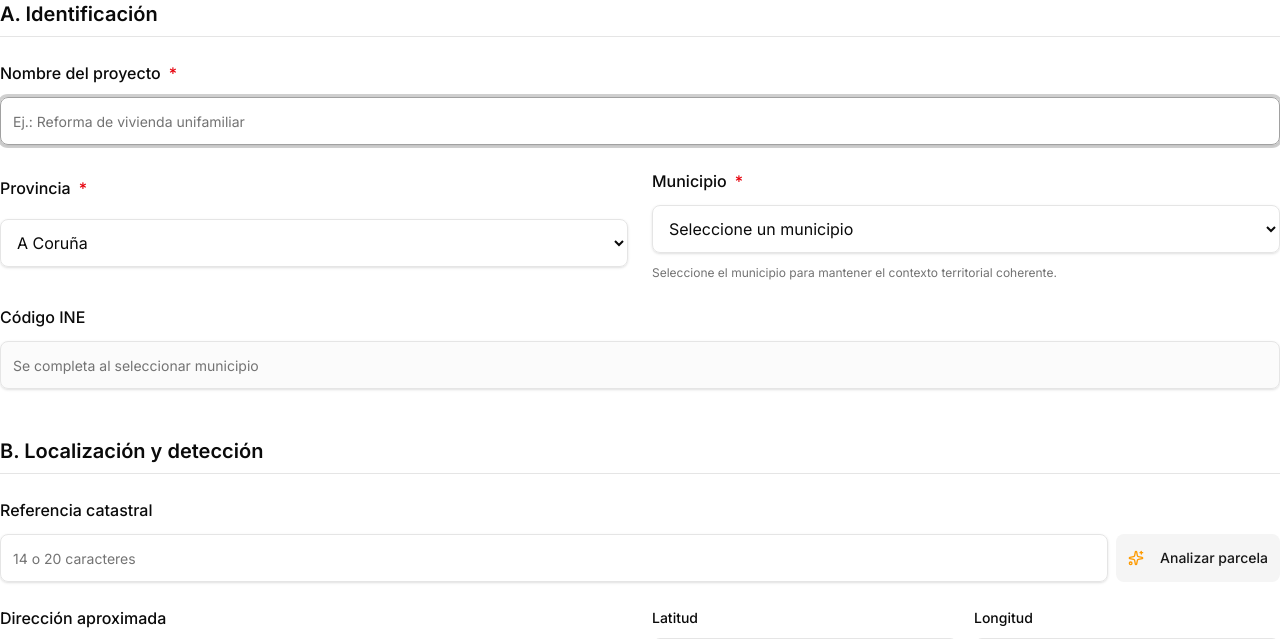
Test case: ExpedienteForm › clears Betanzos inputs before analysing a newly selected Culleredo parcel
Type "15009A01300255" into the field labelled "Referencia catastral".
click(554, 558); type("15009A01300255")  # box [0,534,1108,582]
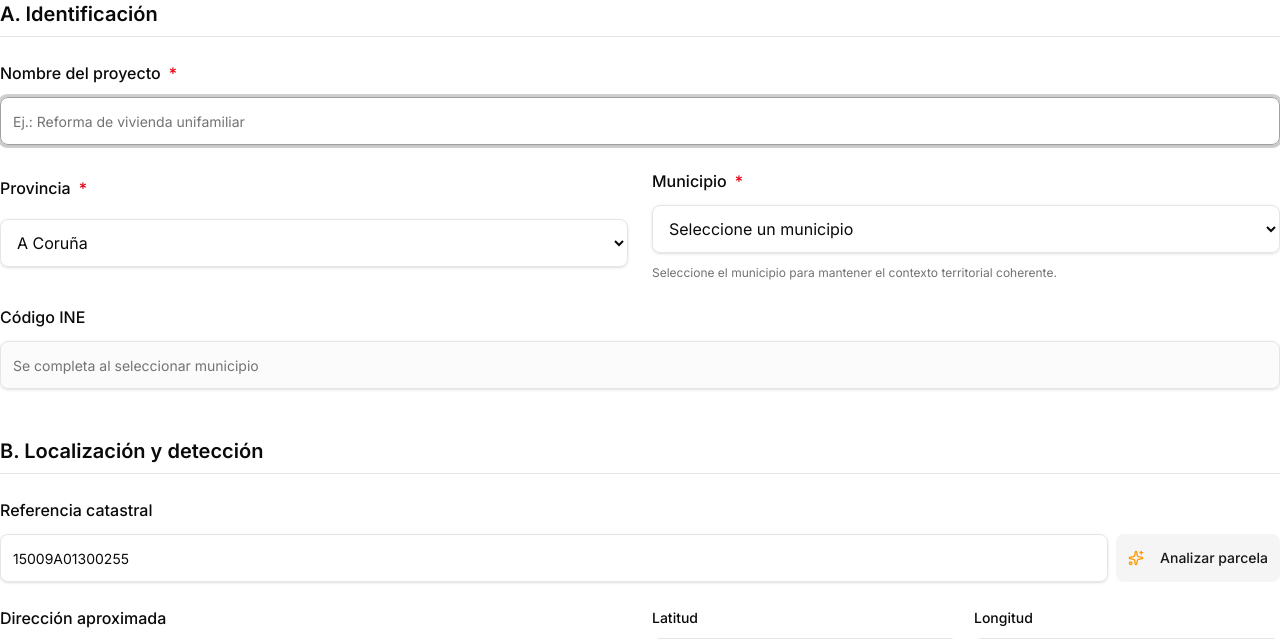
Click the button "Analizar parcela".
click(1198, 558)  # box [1116,534,1279,582]
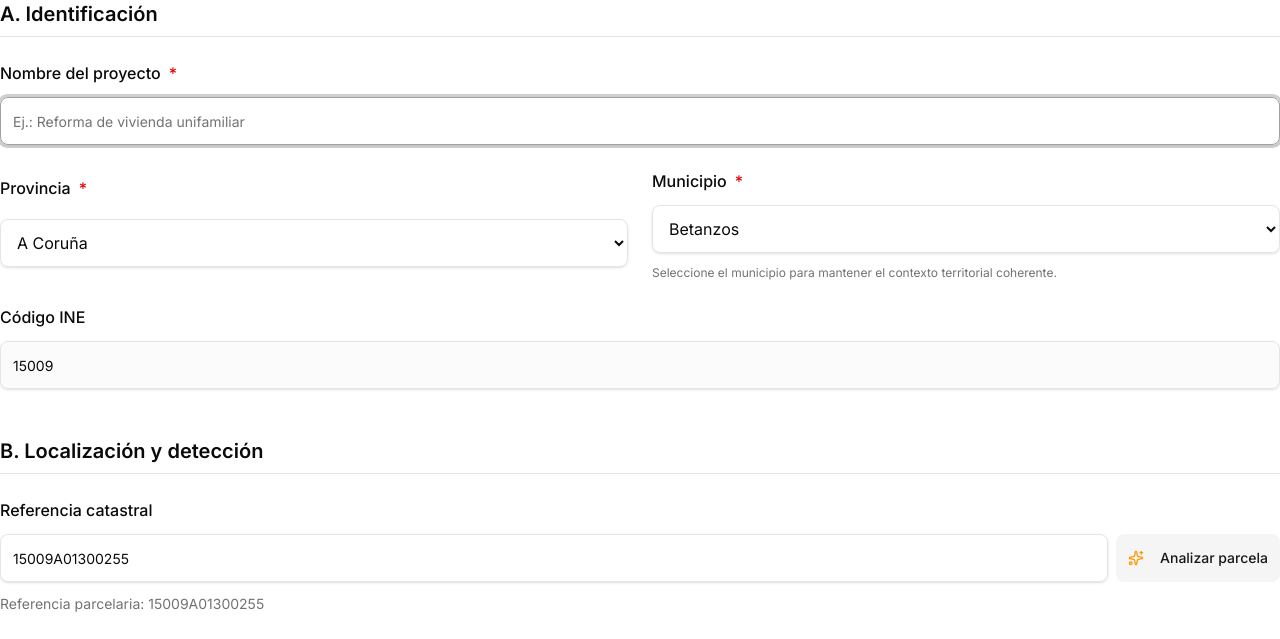
Check: the text "Referencia parcelaria: 15009A01300255" is shown, box [0,595,264,612]
Replace the text in the field labelled "Referencia catastral" with "7709702NH4970N0001SZ" at coordinates (554, 558), box [0,534,1108,582]
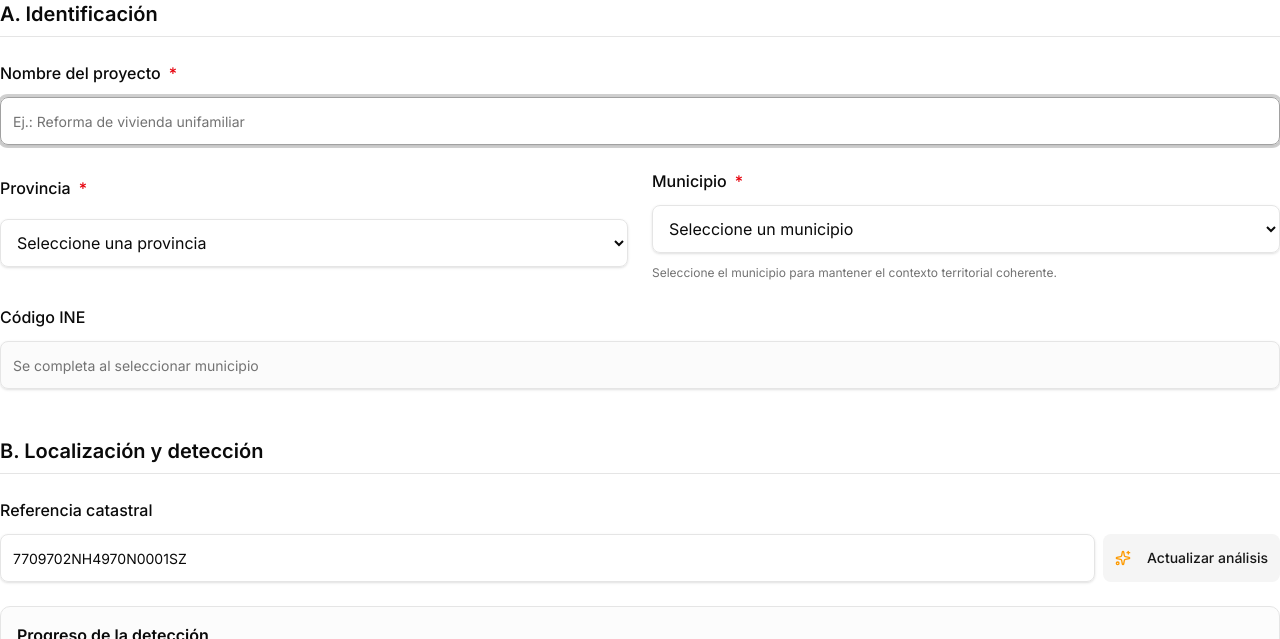
Check: the dropdown labelled "Municipio *" shows "Seleccione un municipio", box [652,205,1279,253]
Click the button "Actualizar análisis".
click(1192, 558)  # box [1103,534,1279,582]
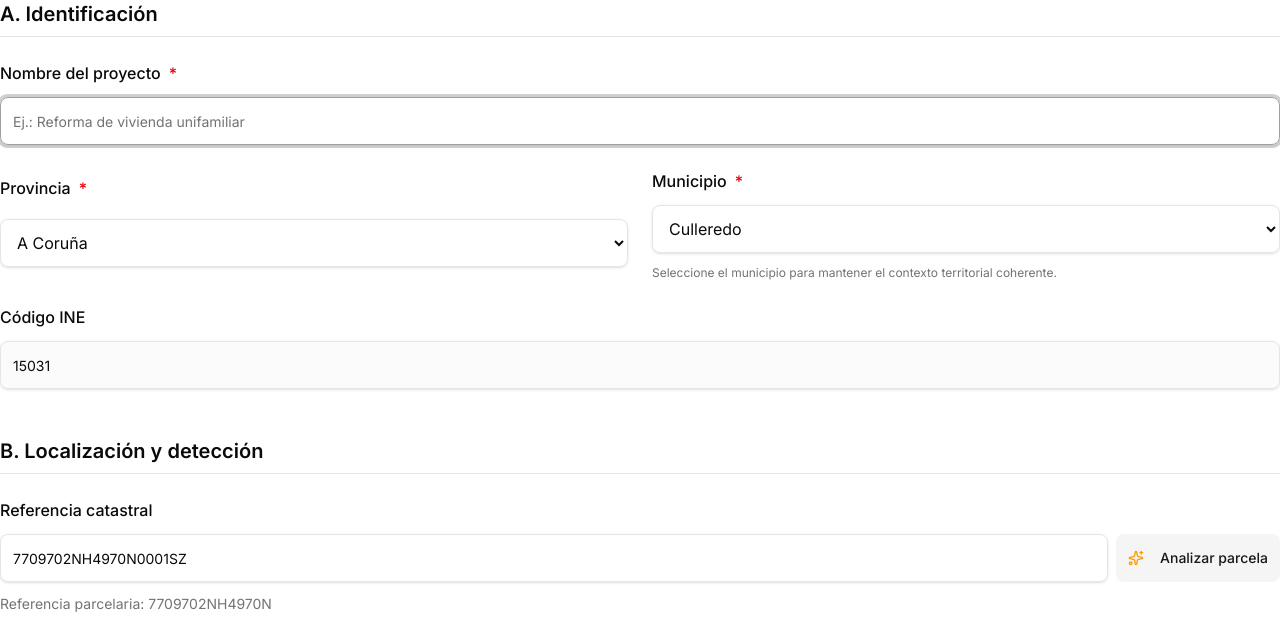
Check: the dropdown labelled "Municipio *" shows "Culleredo", box [652,205,1279,253]
